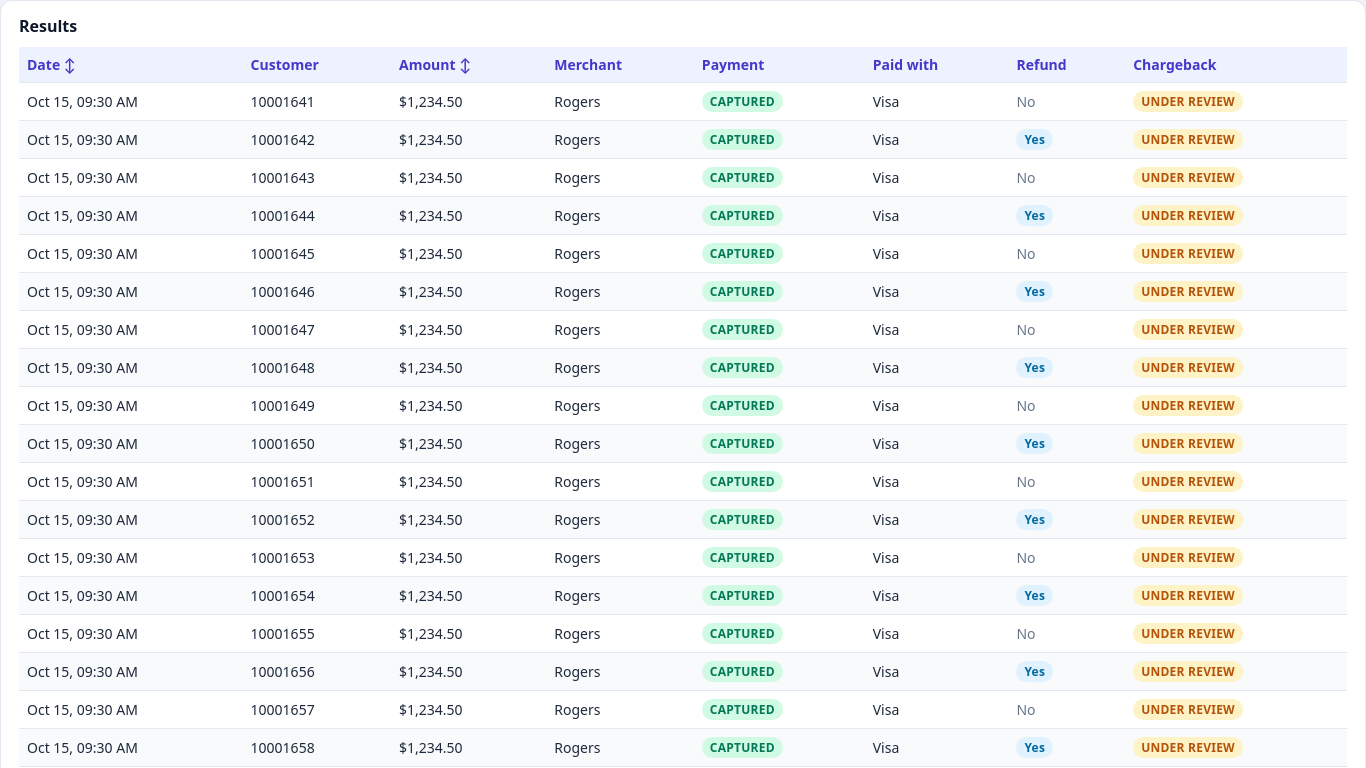
it: summary bar and detail popup › opens the clicked transaction in a popup and closes it with Escape
Click the row named "Open details for transaction 400000000000001". click: (683, 102)
box: x1=19 y1=82 x2=1347 y2=120
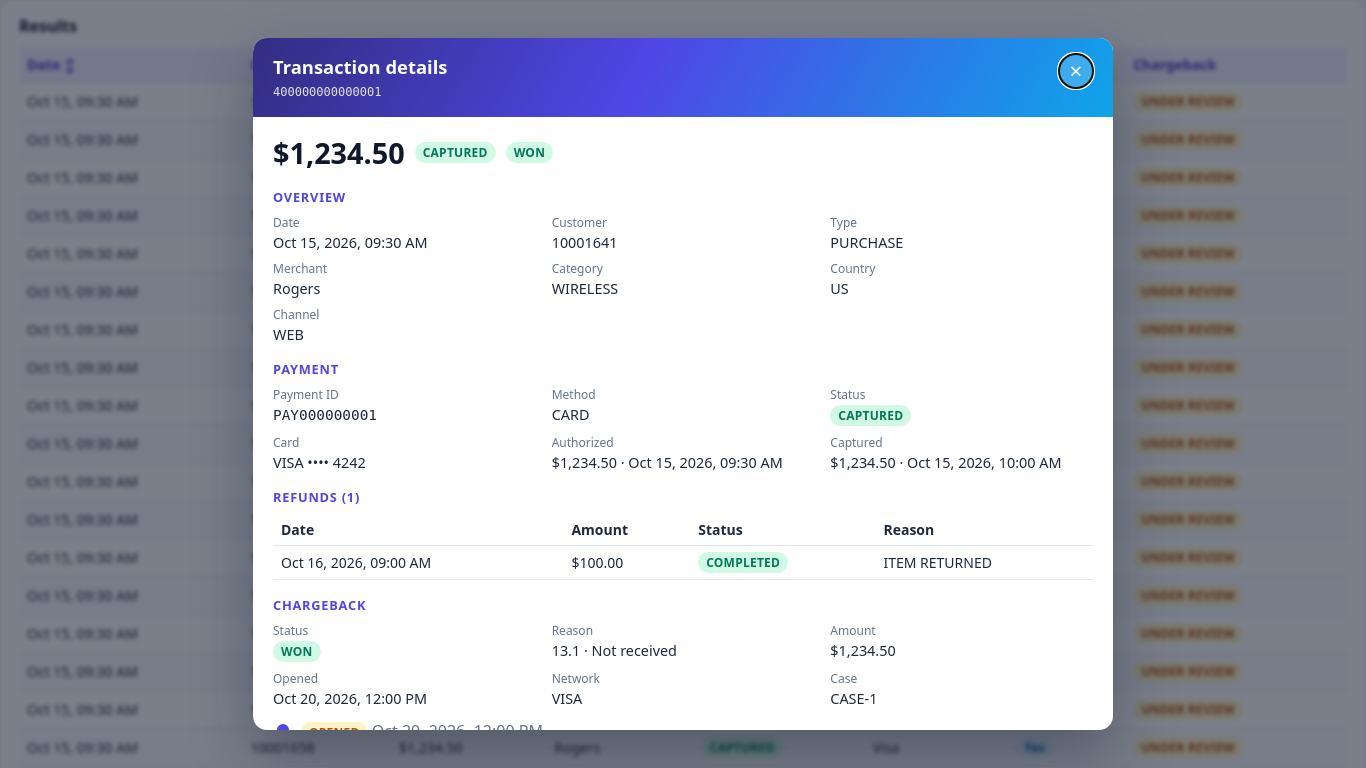
Result: the text with class "detail-hero__amount" reads "$1,234.50" at x1=273 y1=133 x2=405 y2=172
Result: the text "VISA •••• 4242" is shown at x1=273 y1=453 x2=366 y2=472
Result: the heading "Refunds (1)" is shown at x1=273 y1=488 x2=360 y2=506
Press Escape
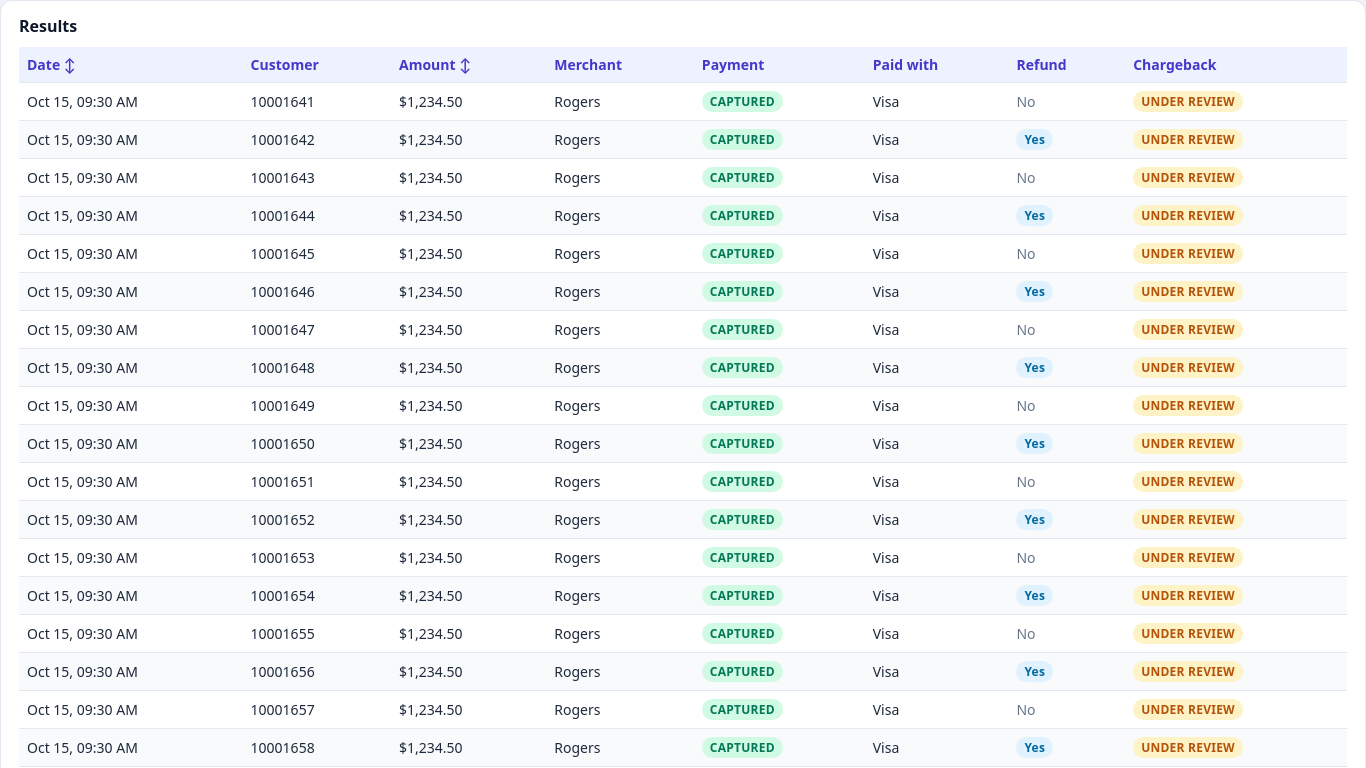
Result: the dialog is gone
